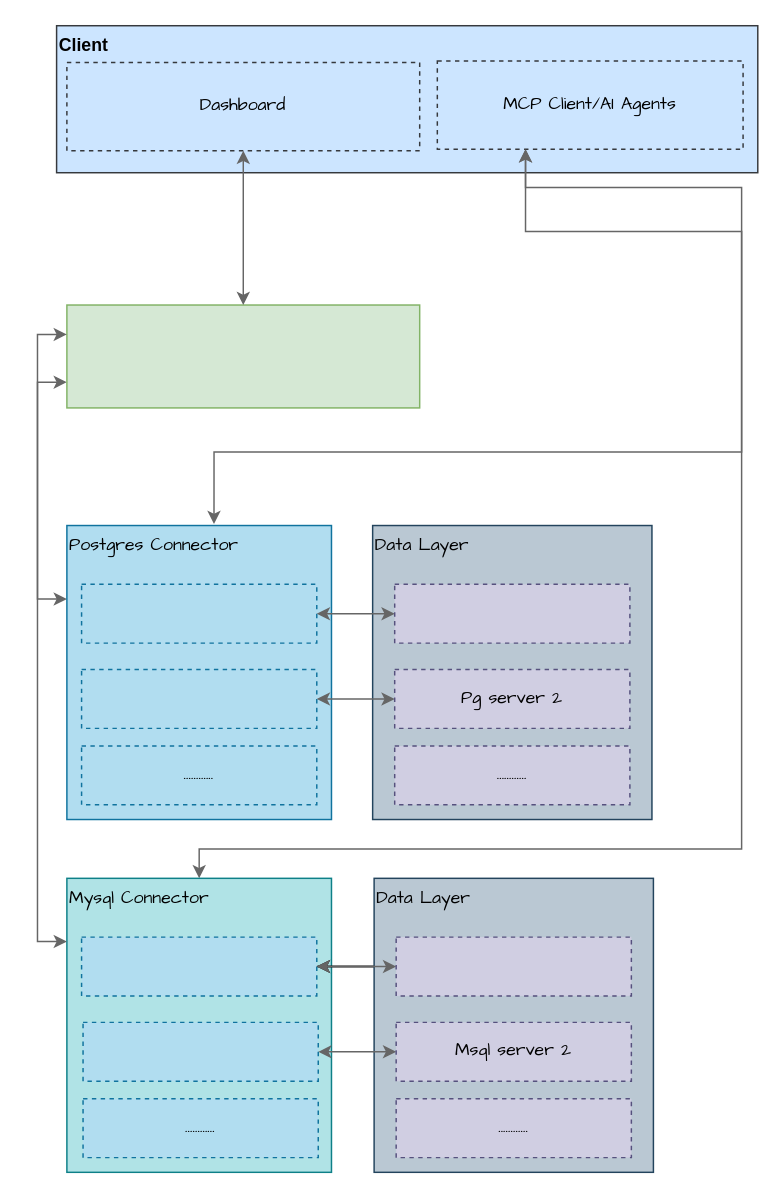
Some shapes in this 784 by 1198 pixel diagram are drawn without their labels. The box of each missing label's shape, as (x1, y1, x2, y2) in pixels:
Application Layer: (65, 304, 420, 408)
MCP Msql server 1: (80, 936, 317, 996)
MCP Msql server 2: (82, 1021, 318, 1081)
MCP PG server 1: (80, 583, 317, 643)
MCP PG server 2: (80, 668, 317, 728)
Msql server 1: (395, 936, 631, 996)
Pg server 1: (393, 583, 630, 643)
